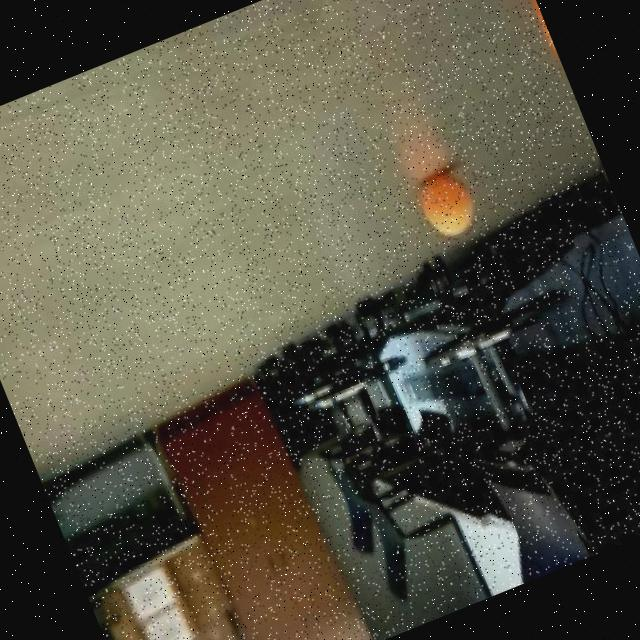ping-pong-ball: (404, 157, 487, 250), (502, 0, 572, 95)
